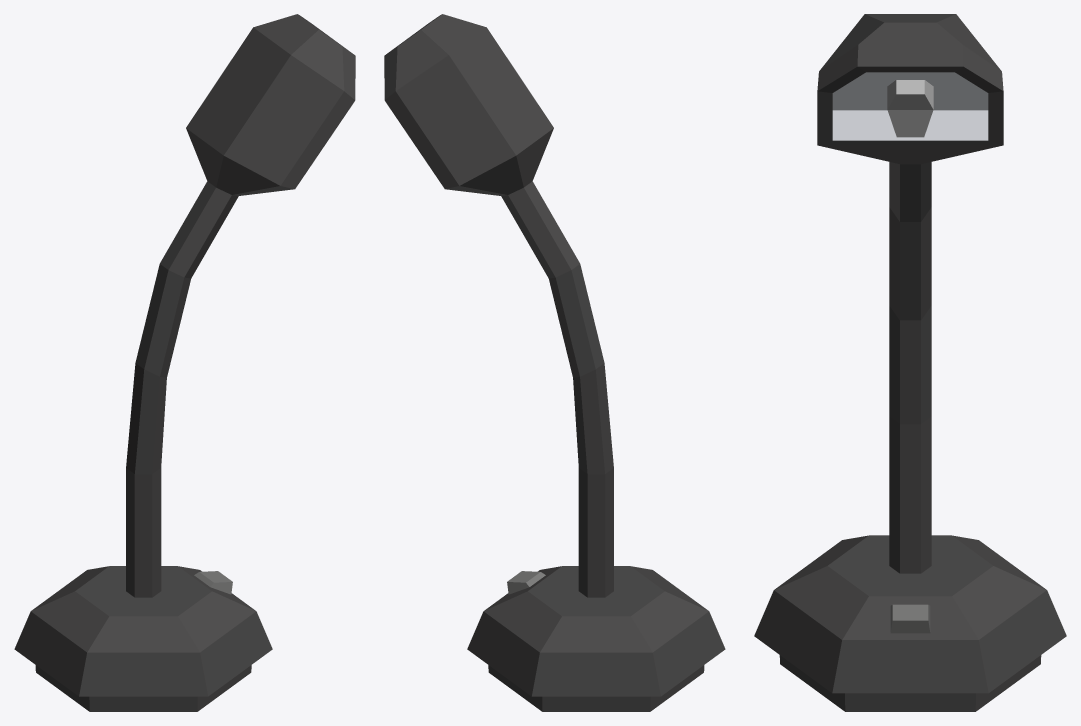
File: SM_Prop_Lamp_03.fbx
3 renders of one model, left to right at view 1: azimuth 30°, elevation 25°; view 2: azimuth 150°, elevation 25°; view 3: azimuth 270°, elevation 25°, orthographic. The views are drawn at different scales.
Visible parts, largest first — view 1: SM_Prop_Lamp_03; view 2: SM_Prop_Lamp_03; view 3: SM_Prop_Lamp_03.
Part boxes in pixels (x1,y1,x2,y2): SM_Prop_Lamp_03: (14, 14, 355, 711); SM_Prop_Lamp_03: (384, 14, 725, 711); SM_Prop_Lamp_03: (754, 14, 1066, 711).
Size of the model in its own units: 27.18 by 55.26 by 21.2.
